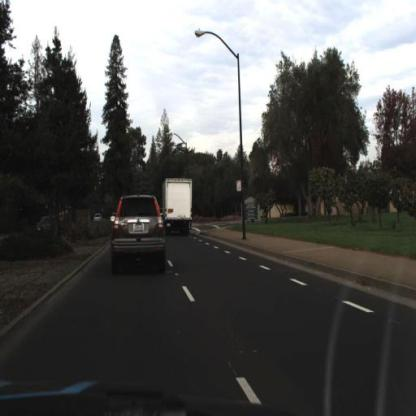car: (109, 193, 167, 273)
truck: (164, 179, 194, 240)
